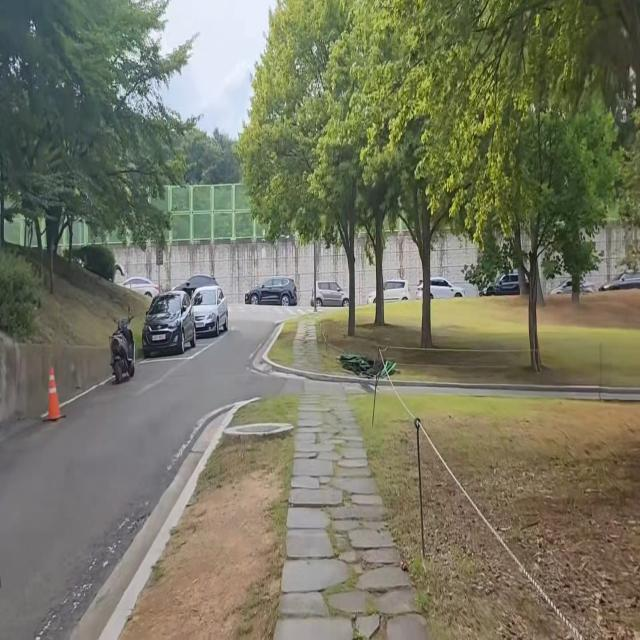obstacle: (139, 280, 235, 376), (101, 308, 141, 388), (41, 364, 65, 422)
road: (0, 321, 280, 640)
sidewalk: (269, 391, 442, 640)
